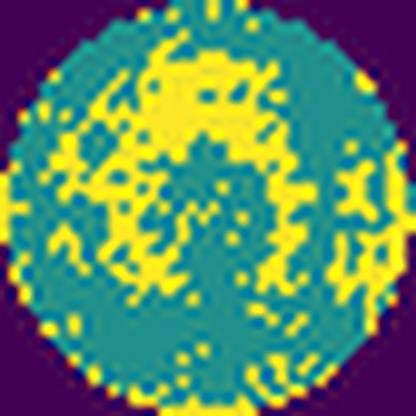Donut: (52, 22, 319, 306)
